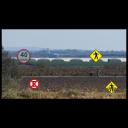speed_limit_40: (16, 49, 30, 64)
